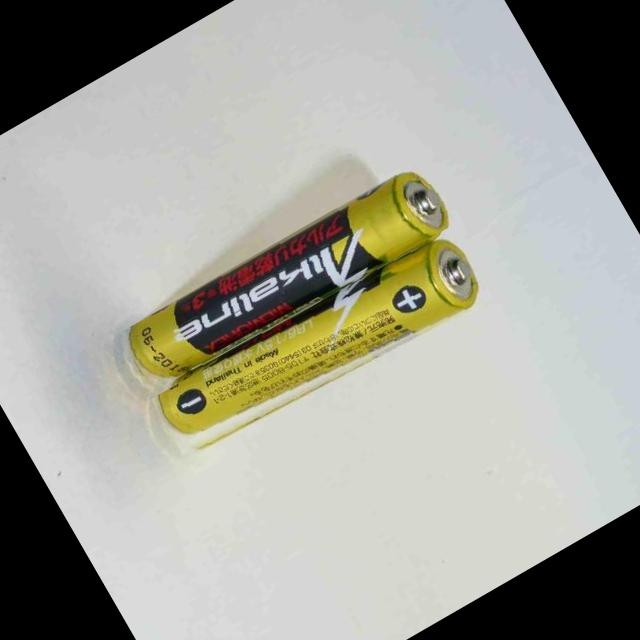Hazard: (114, 157, 465, 406), (150, 226, 492, 472)
